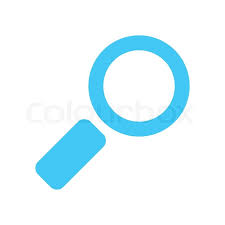searchIcon: (34, 32, 193, 190)
